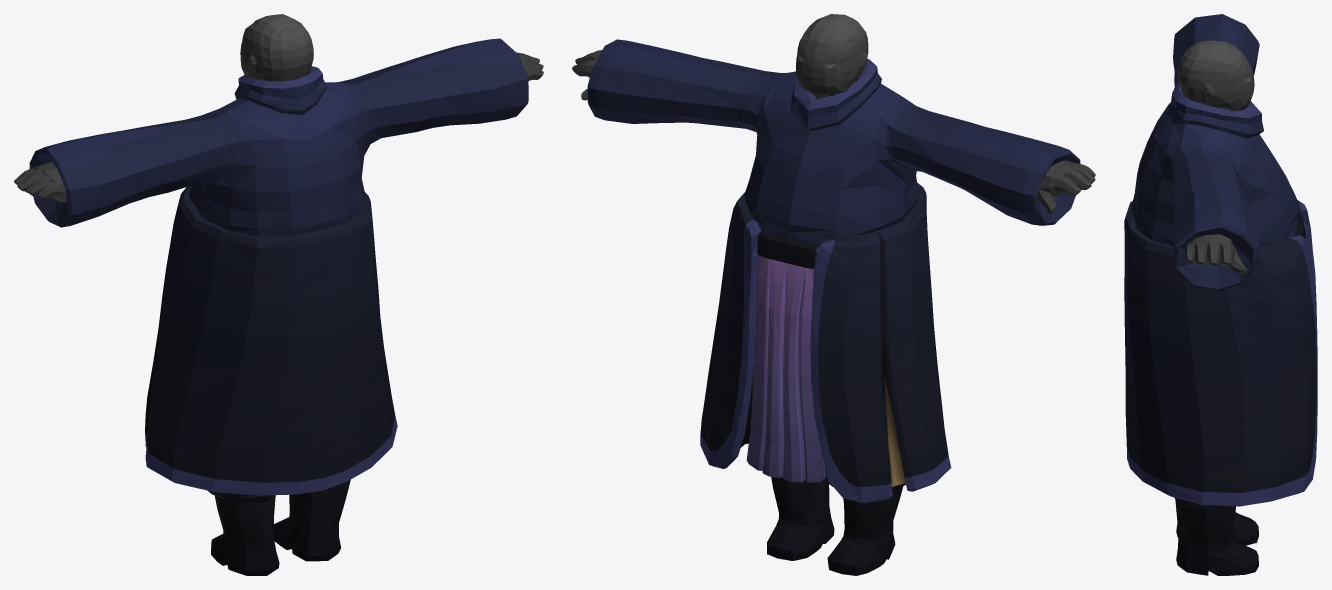
Rendered from NPC_AP29PleatedLaborer.glb.
The picture shows the model from 3 angles, left to right: view 1: azimuth 30°, elevation 25°; view 2: azimuth 150°, elevation 25°; view 3: azimuth 270°, elevation 25°; orthographic projection. The views are drawn at different scales.
Visible parts, largest first — view 1: NPC_AP29PleatedLaborer; view 2: NPC_AP29PleatedLaborer; view 3: NPC_AP29PleatedLaborer.
Part boxes in pixels (x1=…): NPC_AP29PleatedLaborer: x1=14, y1=14, x2=543, y2=575; NPC_AP29PleatedLaborer: x1=572, y1=14, x2=1095, y2=575; NPC_AP29PleatedLaborer: x1=1124, y1=14, x2=1317, y2=575.
Size of the model in its own units: 14.05 by 13.82 by 4.78.
Materials: 1 (1 with a texture image).
